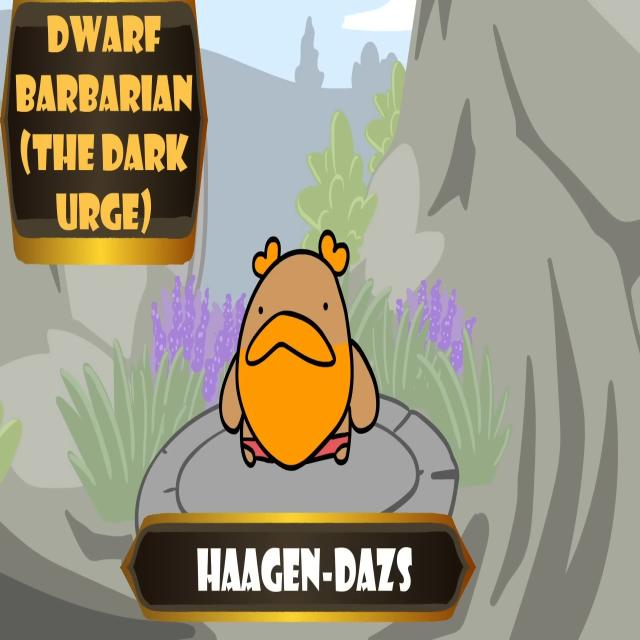Haagen-Daz: (220, 231, 381, 469)
